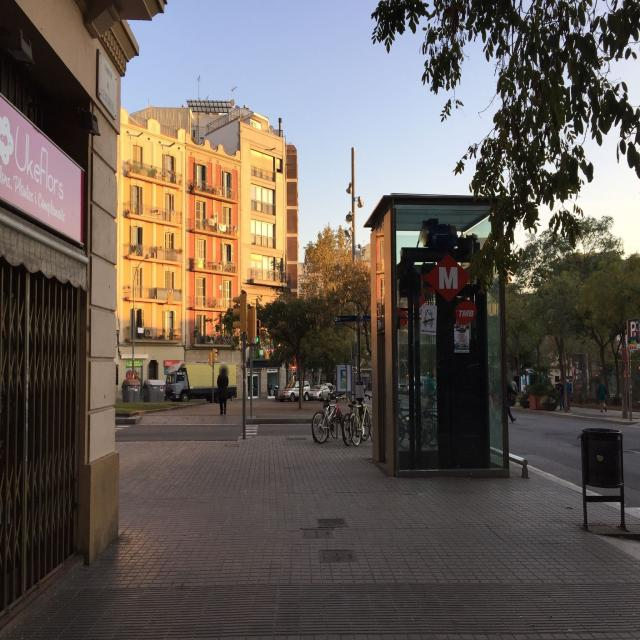bike: (311, 392, 358, 446), (343, 394, 372, 444)
car: (276, 380, 318, 402), (320, 382, 335, 399)
